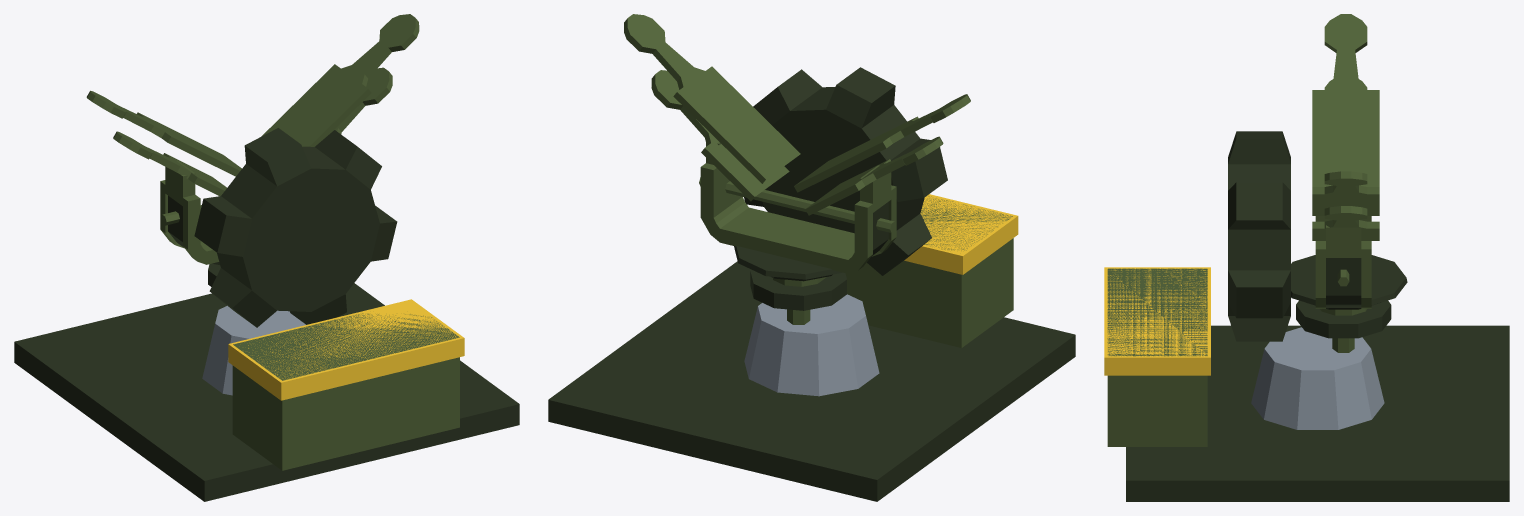
The model's file is launcher_frame.glb.
The picture shows the model from 3 angles, left to right: view 1: azimuth 30°, elevation 25°; view 2: azimuth 150°, elevation 25°; view 3: azimuth 270°, elevation 25°; orthographic projection. The views are drawn at different scales.
Visible parts, largest first — view 1: frame_mesh; view 2: frame_mesh; view 3: frame_mesh.
Part boxes in pixels (x1=…): frame_mesh: x1=14, y1=14, x2=519, y2=501; frame_mesh: x1=548, y1=14, x2=1075, y2=501; frame_mesh: x1=1104, y1=14, x2=1509, y2=501.
Size of the model in its own units: 1.14 by 1.1 by 1.21.
